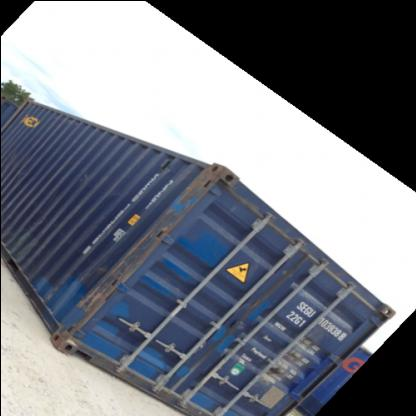Damage: (87, 243, 154, 298), (178, 165, 224, 211), (36, 256, 76, 304), (15, 150, 37, 174), (76, 162, 92, 183)
